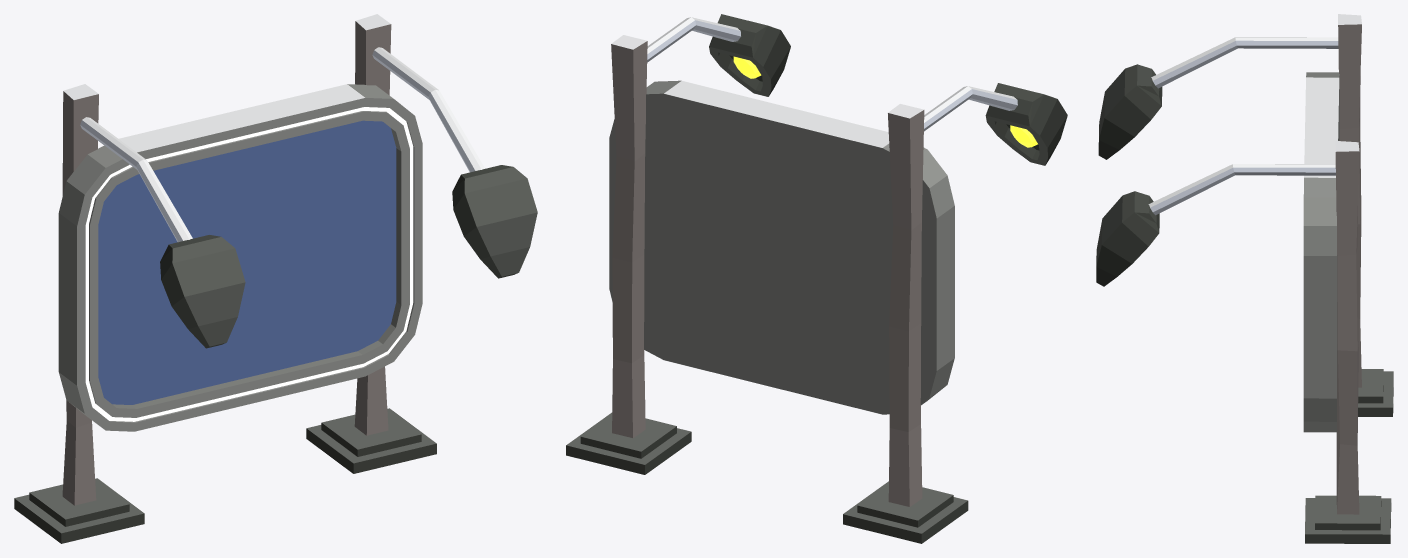
Rendered from SignB.glb.
The picture shows the model from 3 angles, left to right: view 1: azimuth 30°, elevation 25°; view 2: azimuth 150°, elevation 25°; view 3: azimuth 270°, elevation 25°; orthographic projection. The views are drawn at different scales.
Visible parts, largest first — view 1: Road_Display_Blue; view 2: Road_Display_Blue; view 3: Road_Display_Blue.
Boxes of the visible parts, bbox=[...] form: Road_Display_Blue: bbox=[14, 14, 537, 543]; Road_Display_Blue: bbox=[566, 14, 1067, 543]; Road_Display_Blue: bbox=[1096, 14, 1393, 543].
Size of what is drawn, in the model's own units: 2.31 by 2.5 by 1.78.
1 material, 1 textured.
